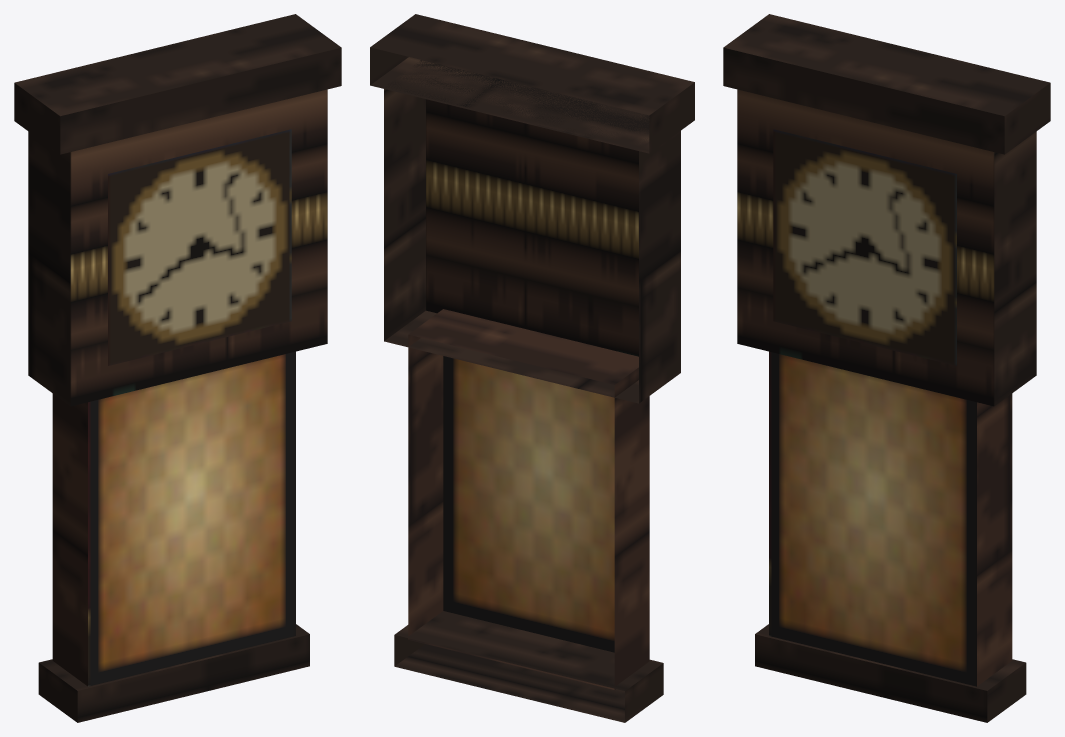
Rendered from Atmos_Wall_Clock.fbx.
The picture shows the model from 3 angles, left to right: view 1: azimuth 30°, elevation 25°; view 2: azimuth 150°, elevation 25°; view 3: azimuth 330°, elevation 25°; orthographic projection.
Parts seen in each view (by area): view 1: Atmos_Wall_Clock, Atmos_Wall_Clock_Face; view 2: Atmos_Wall_Clock; view 3: Atmos_Wall_Clock, Atmos_Wall_Clock_Face.
Part boxes in pixels (x1,y1,x2,y2): Atmos_Wall_Clock: (14,14,341,722); Atmos_Wall_Clock_Face: (108,129,291,365); Atmos_Wall_Clock: (370,14,694,722); Atmos_Wall_Clock: (723,14,1050,722); Atmos_Wall_Clock_Face: (773,129,956,365).
Bounding box in the file's own units: 46 × 96.5 × 13.
